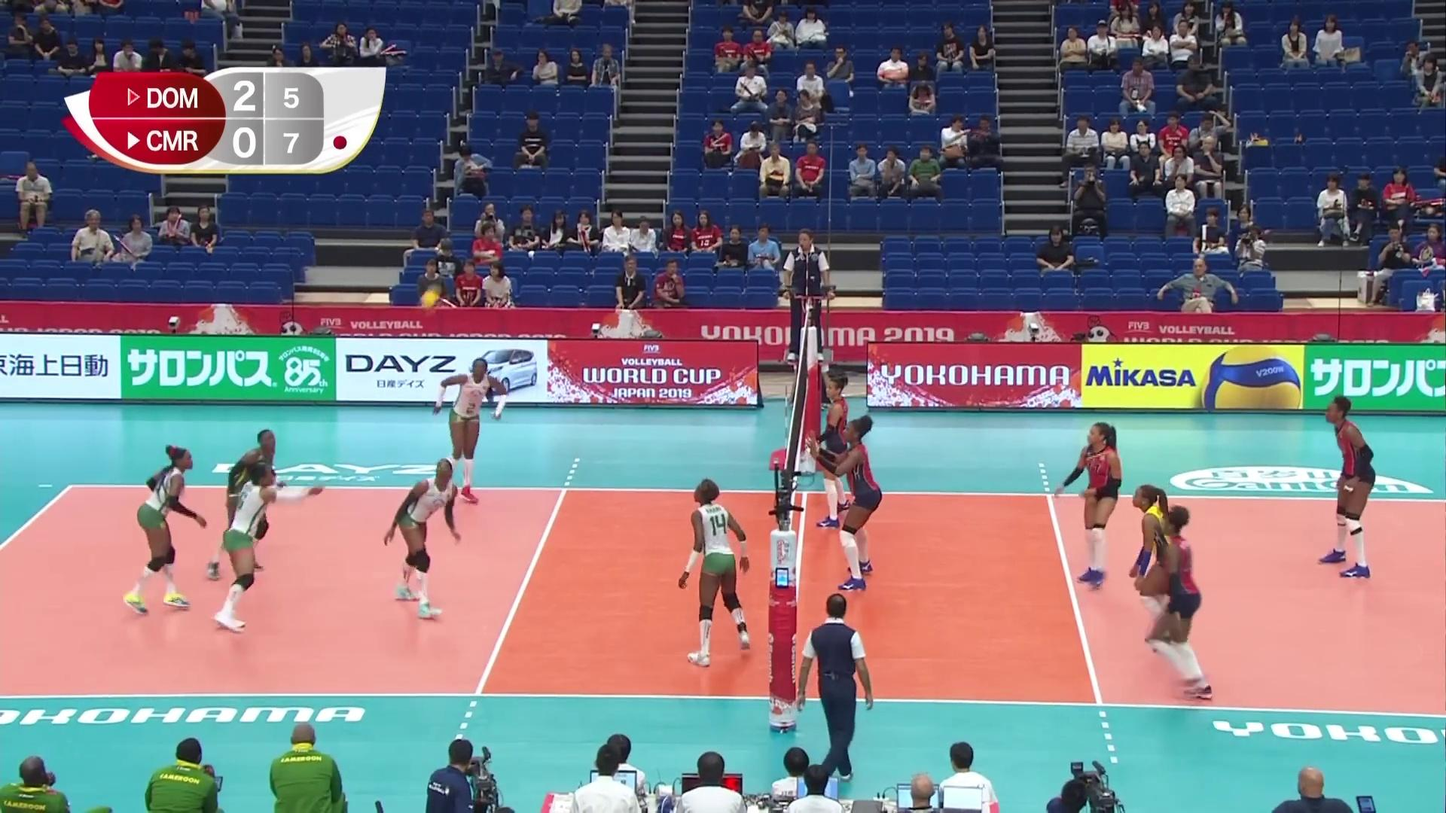player: (214, 462, 323, 632), (678, 479, 751, 661), (125, 447, 203, 617), (1145, 507, 1213, 701), (1302, 397, 1376, 575), (385, 459, 460, 619), (1051, 423, 1121, 587), (204, 428, 278, 581), (816, 415, 881, 588), (1124, 484, 1189, 649), (435, 359, 506, 509), (817, 375, 854, 529)
refree: (794, 595, 870, 783), (784, 230, 829, 364)
